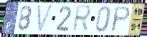0: (94, 5, 112, 34)
2: (55, 5, 73, 33)
8: (18, 6, 33, 32)
P: (110, 6, 132, 34)
R: (71, 4, 94, 34)
V: (37, 3, 55, 34)
